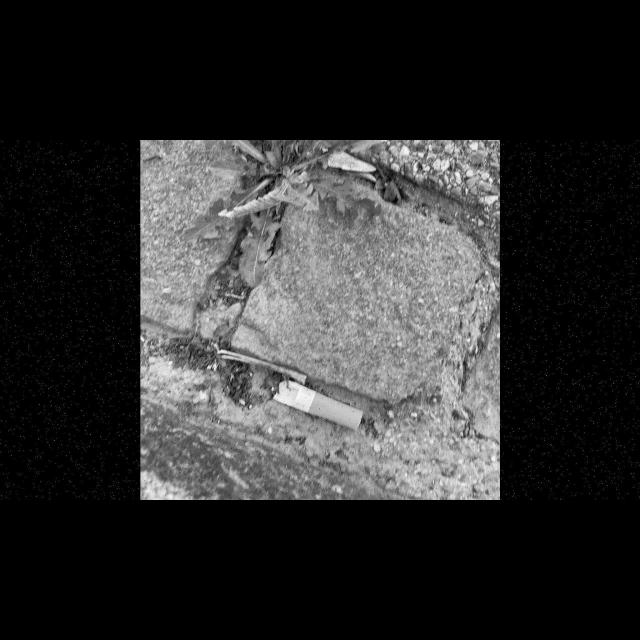cigarette: (270, 379, 364, 432)
